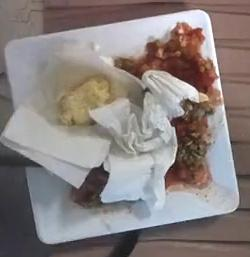beans: (132, 23, 217, 93)
dessert: (59, 76, 110, 125)
vegetables: (165, 99, 214, 190)
